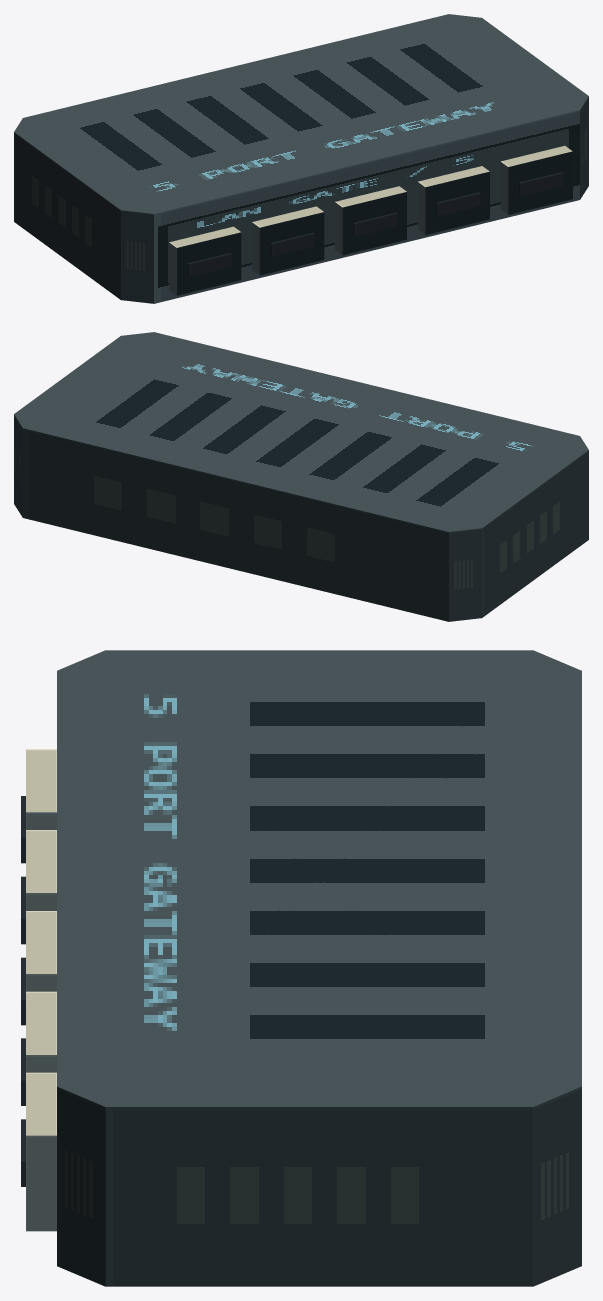
The model's file is gateway_red.glb.
3 renders of one model, top to bottom at view 1: azimuth 30°, elevation 25°; view 2: azimuth 150°, elevation 25°; view 3: azimuth 270°, elevation 25°, orthographic. The views are drawn at different scales.
Parts seen in each view (by area): view 1: EQUIPO; view 2: EQUIPO; view 3: EQUIPO.
Part boxes in pixels (<box>): EQUIPO: <box>14,14,588,303</box>; EQUIPO: <box>14,332,588,621</box>; EQUIPO: <box>21,650,581,1286</box>.
Size of the model in its own units: 0.5334 by 0.0978 by 0.2768.
Materials: 1 (1 with a texture image).
